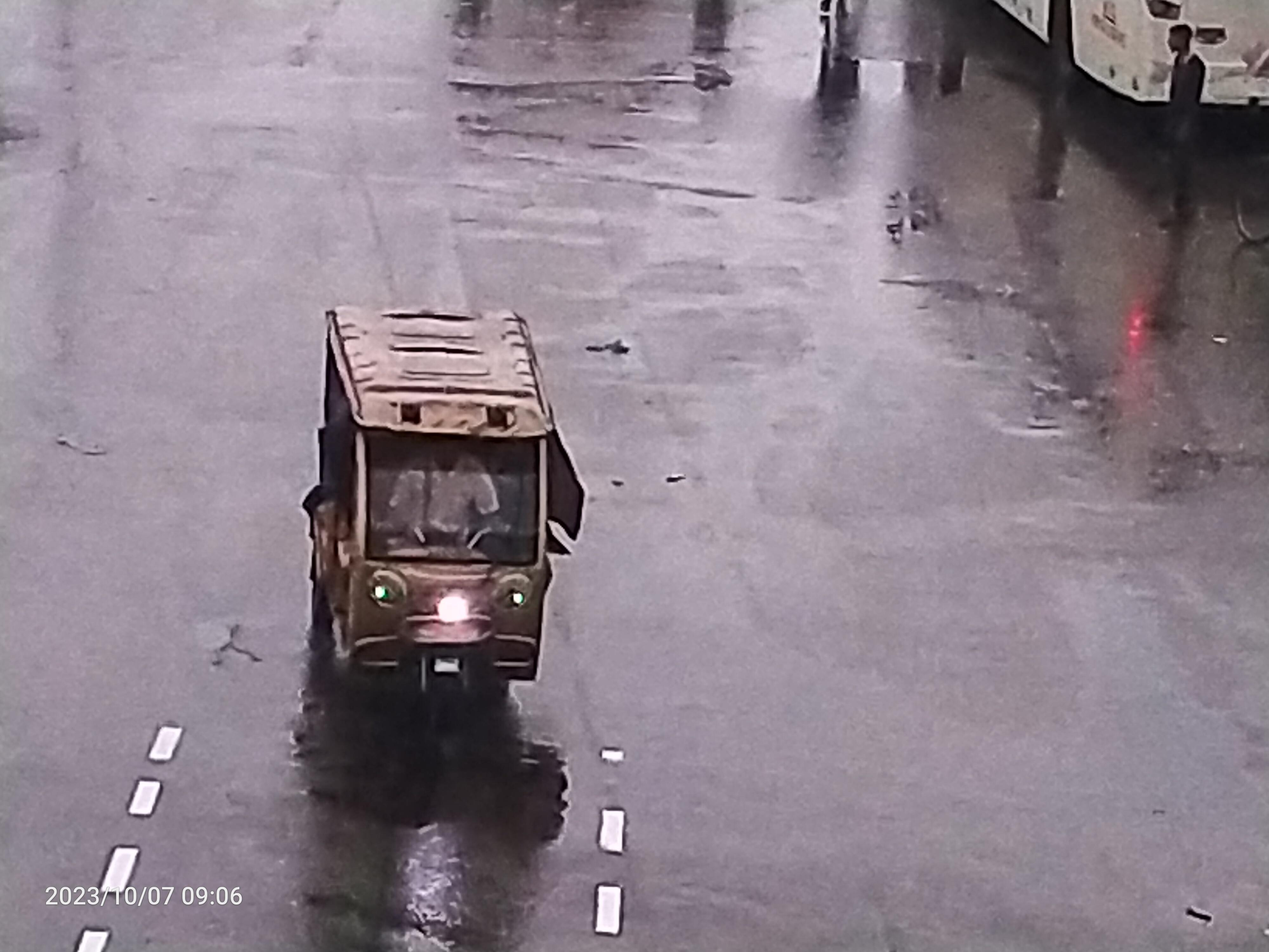Bus: (929, 0, 1269, 220)
Car: (255, 257, 618, 751)
